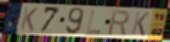7: (38, 6, 62, 34)
9: (66, 6, 85, 35)
K: (19, 6, 40, 33), (130, 11, 151, 37)
L: (85, 9, 102, 35)
R: (107, 9, 131, 37)
